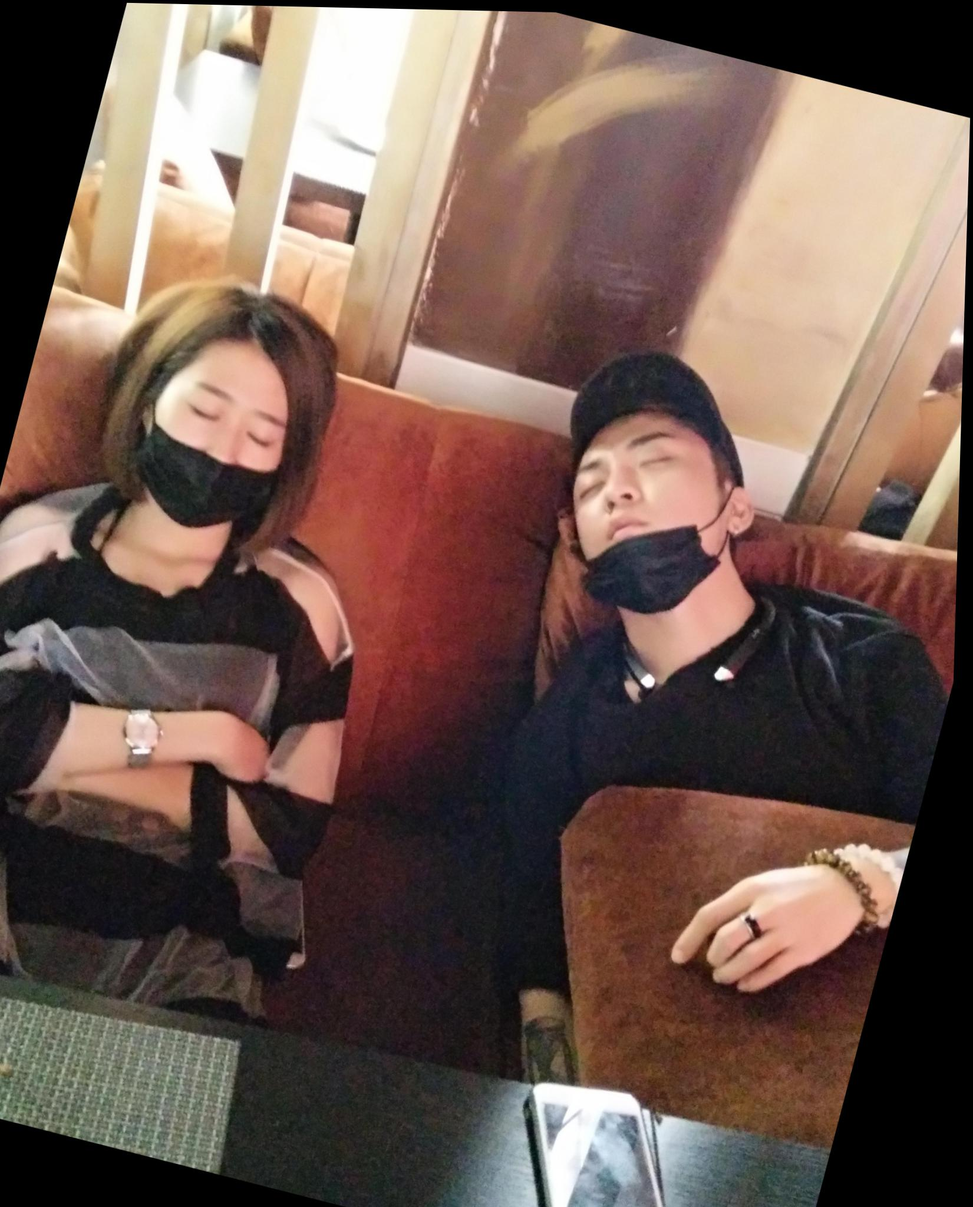WRONG: (546, 398, 735, 611), (123, 346, 312, 553)
